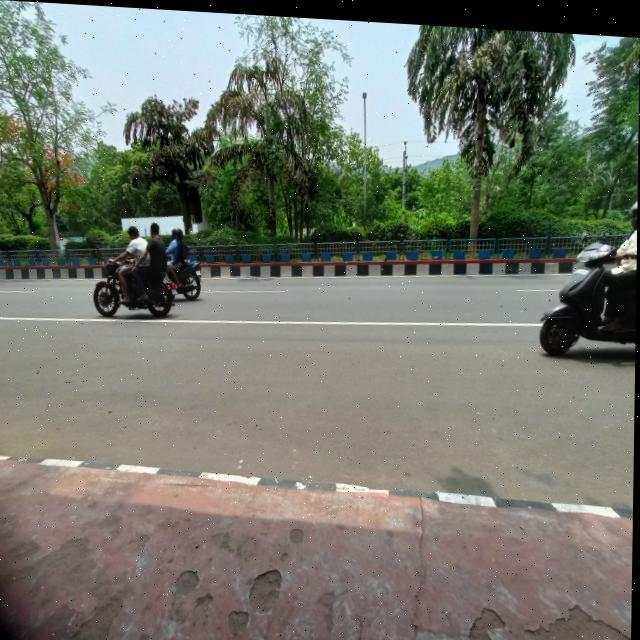bike: (532, 231, 635, 347), (96, 251, 190, 322)
